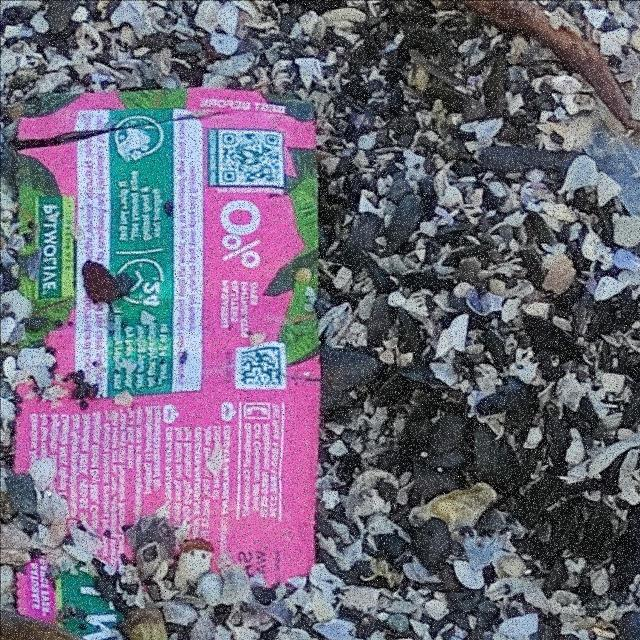plastic_waste: (1, 86, 327, 596)
